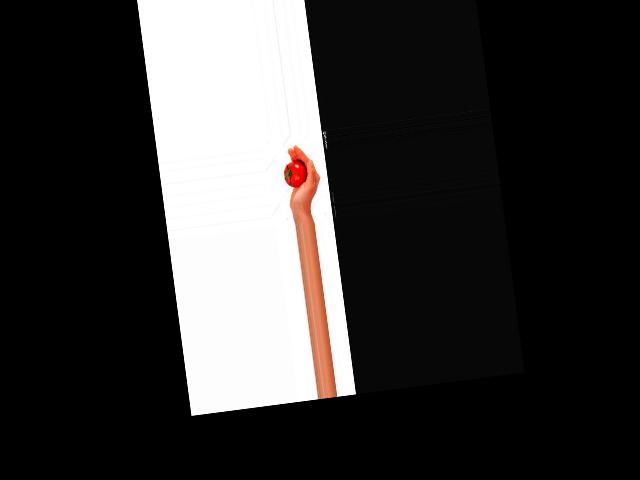tomato: (283, 160, 308, 189)
